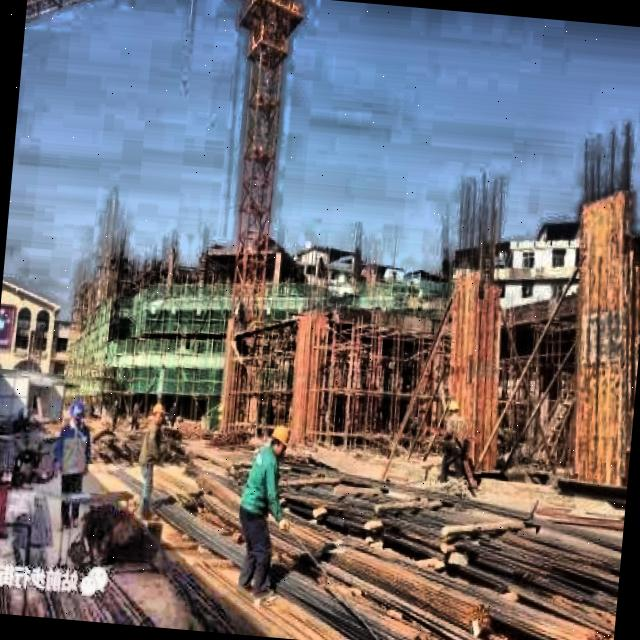helmet: (266, 422, 294, 460), (64, 398, 88, 427), (149, 396, 169, 424), (445, 394, 460, 421)
